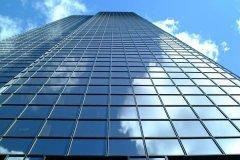building: (0, 12, 240, 160)
